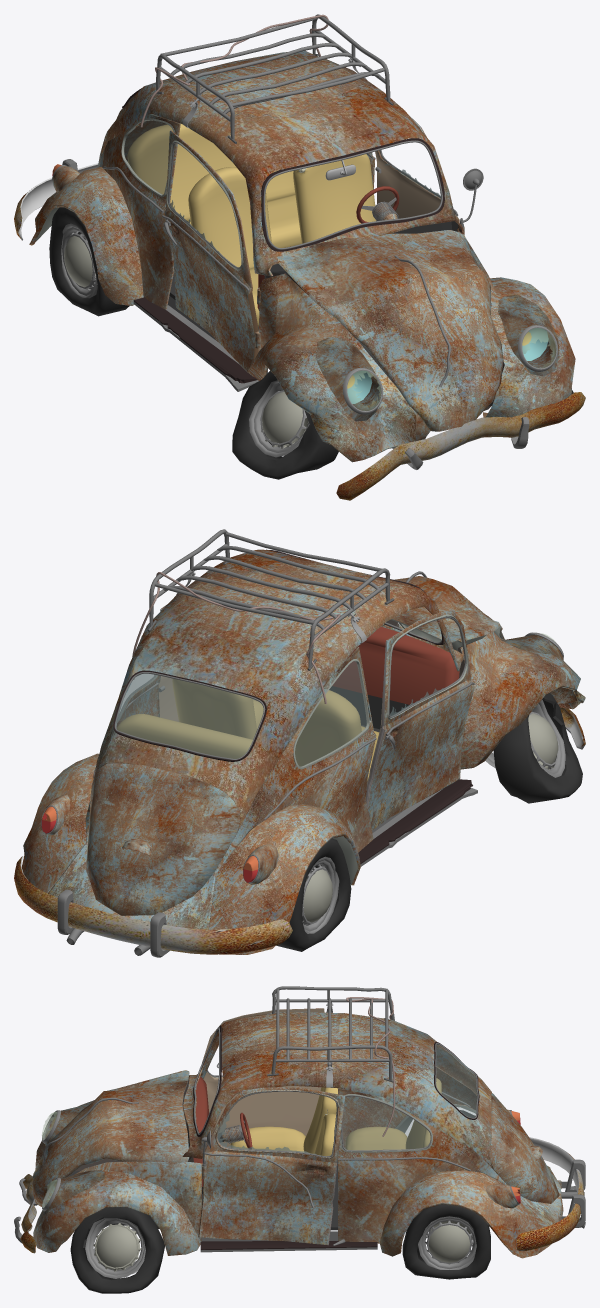
The model's file is car_crashed.glb.
3 views of the same model, one above another, from view 1: azimuth 30°, elevation 25°; view 2: azimuth 150°, elevation 25°; view 3: azimuth 270°, elevation 25° (orthographic). The views are drawn at different scales.
Visible parts, largest first — view 1: Object041_ford_0, Object078_ford_0, Object039_koleso1_0, Object049_dver_0, Object047_koleso2__0, Object225_koleso1_0, Object224_side_0, Box043, Plane004, Box039, Box041, Cylinder172 (+26 smaller); view 2: Object078_ford_0, Object077_ford_0, Object049_dver_0, Object047_koleso2__0, Object224_side_0, Object039_koleso1_0, Object063_steklo_0, Plane006, Object154_rul_0, Object228_koleso2__0, Cylinder172, Object048_steklo_0 (+32 smaller); view 3: Object078_ford_0, Object226_dver_0, Object041_ford_0, Object225_koleso1_0, Object229_side_0, Object228_koleso2__0, Object077_ford_0, Object049_panel_0, Cylinder174, Object293_steklo_0, Cylinder175, Object224_side_0 (+25 smaller).
Boxes of the visible parts, x1,y1,x2,y2 form: Object041_ford_0: [277, 230, 503, 431]; Object078_ford_0: [101, 50, 463, 276]; Object039_koleso1_0: [247, 273, 416, 462]; Object049_dver_0: [164, 130, 258, 376]; Object047_koleso2__0: [29, 167, 143, 305]; Object225_koleso1_0: [459, 232, 575, 417]; Object224_side_0: [99, 114, 180, 309]; Box043: [127, 124, 295, 221]; Plane004: [336, 392, 585, 500]; Box039: [293, 154, 376, 243]; Box041: [188, 167, 271, 268]; Cylinder172: [232, 370, 338, 479]; Object078_ford_0: [94, 549, 464, 829]; Object077_ford_0: [86, 763, 240, 915]; Object049_dver_0: [366, 610, 474, 830]; Object047_koleso2__0: [208, 804, 360, 954]; Object224_side_0: [122, 647, 376, 929]; Object039_koleso1_0: [460, 631, 585, 769]; Object063_steklo_0: [116, 674, 263, 758]; Plane006: [14, 856, 292, 954]; Object154_rul_0: [332, 627, 459, 704]; Object228_koleso2__0: [21, 753, 98, 893]; Cylinder172: [493, 693, 582, 803]; Object048_steklo_0: [295, 661, 366, 766]; Object078_ford_0: [182, 1012, 492, 1168]; Object226_dver_0: [198, 1087, 345, 1245]; Object041_ford_0: [32, 1070, 189, 1206]; Object225_koleso1_0: [33, 1161, 202, 1255]; Object229_side_0: [338, 1088, 563, 1243]; Object228_koleso2__0: [379, 1170, 551, 1258]; Object077_ford_0: [488, 1093, 559, 1203]; Object049_panel_0: [202, 1008, 324, 1147]; Cylinder174: [70, 1207, 164, 1293]; Object293_steklo_0: [342, 1096, 430, 1149]; Cylinder175: [402, 1204, 490, 1279]; Object224_side_0: [342, 1066, 563, 1207].
Size of the model in its own units: 48.9 by 40.44 by 93.94.
Materials: 36 (9 with a texture image).
